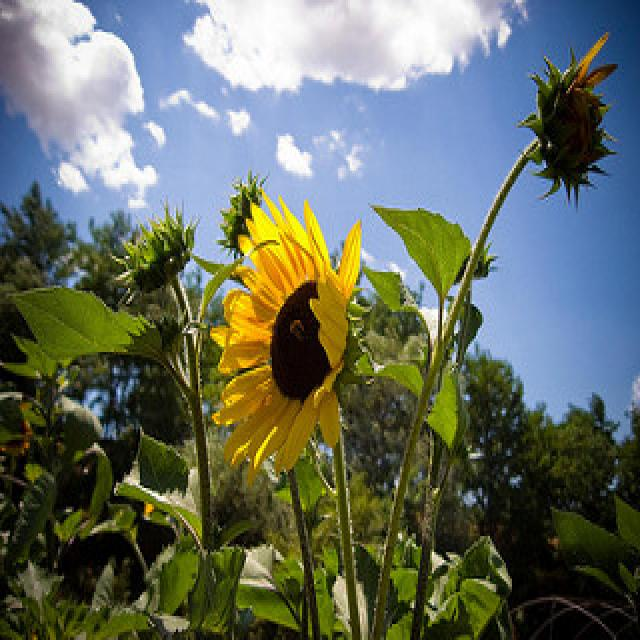sunflower: (205, 180, 371, 505)
